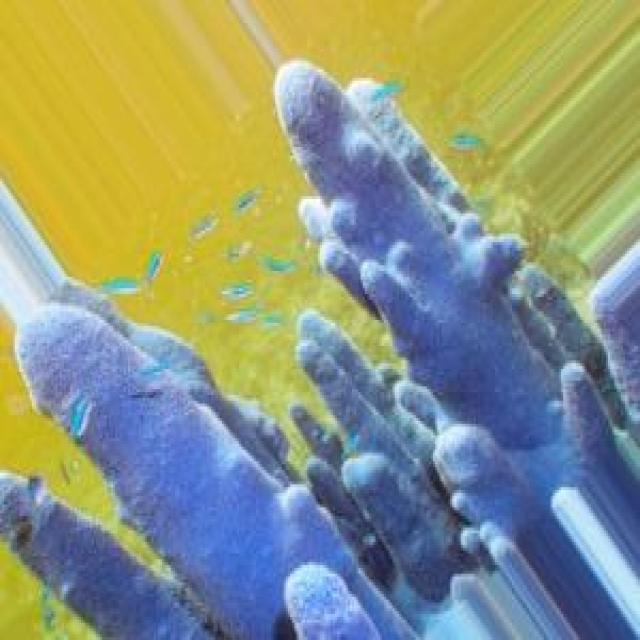Healthy: (1, 229, 396, 640), (254, 1, 640, 324), (277, 64, 557, 450), (299, 314, 471, 601), (1, 474, 214, 640), (283, 266, 396, 363)
